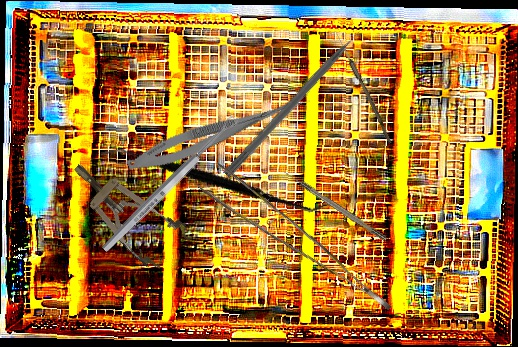Hook Surgical: (282, 168, 388, 243)
Micro Scissor: (123, 82, 314, 181)
Pusher: (222, 20, 373, 180)
Spatula Surgical: (98, 92, 334, 264)
Speculum: (58, 144, 195, 277)
Surgical Spoon: (99, 113, 241, 255), (332, 29, 395, 145)
Tissue Forceps: (196, 152, 392, 340)
